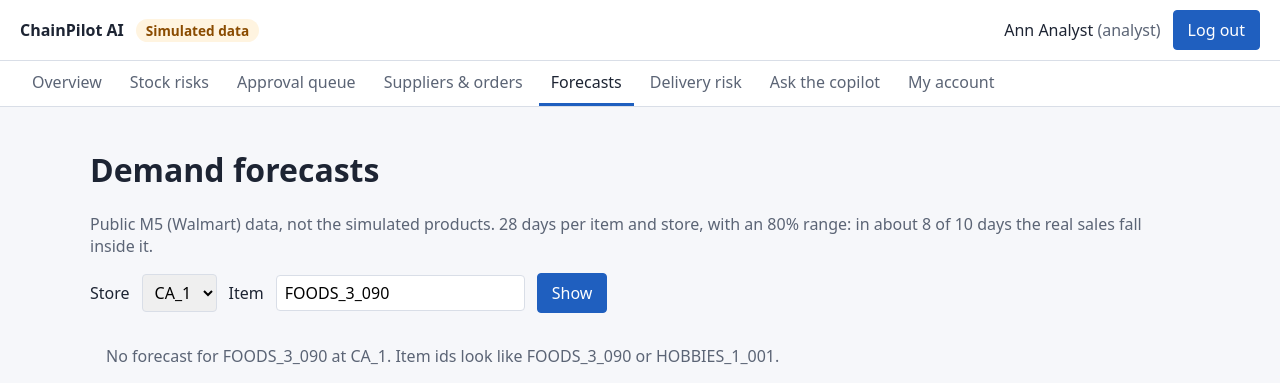
forecasts › says when an item has no forecast
This screenshot has width=1280, height=383.
In the field labelled "Item": (400, 293) [276, 275, 525, 311], type "foods_9_999"
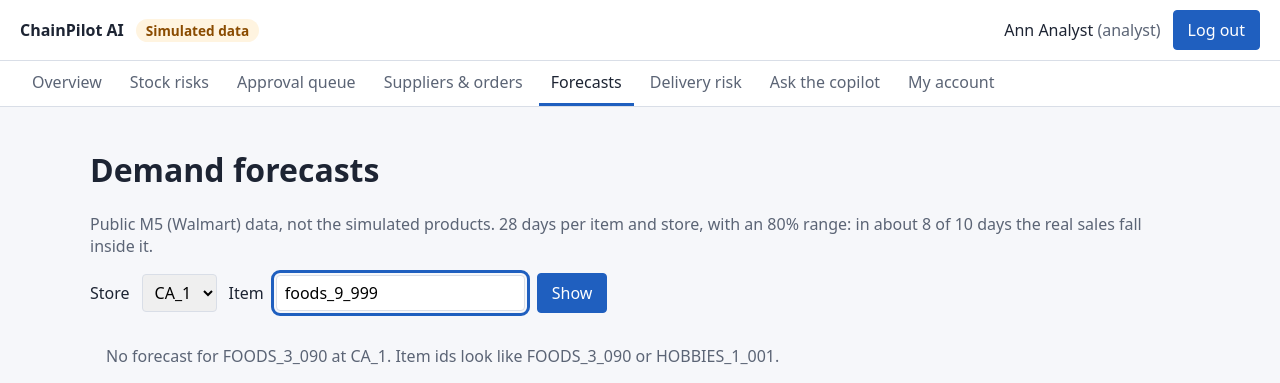
Click the button "Show": (572, 293) [537, 273, 607, 313]
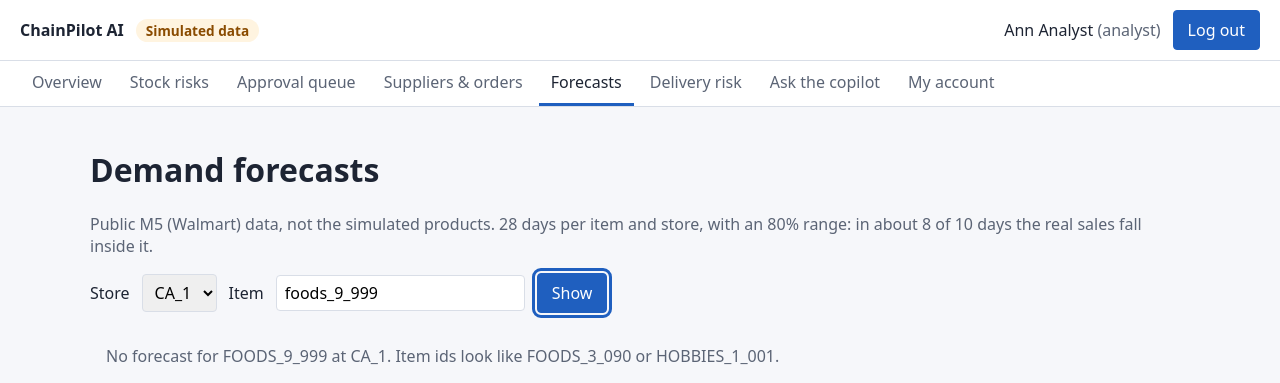
expect the text "No forecast for FOODS_9_999 at CA_1" is shown: met, box [106, 345, 779, 367]
